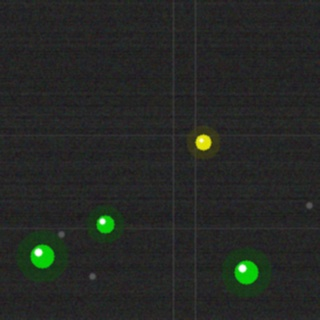green_normal: (28, 242, 56, 270), (232, 258, 260, 286), (94, 213, 116, 235)
yellow_warning: (193, 132, 213, 152)
